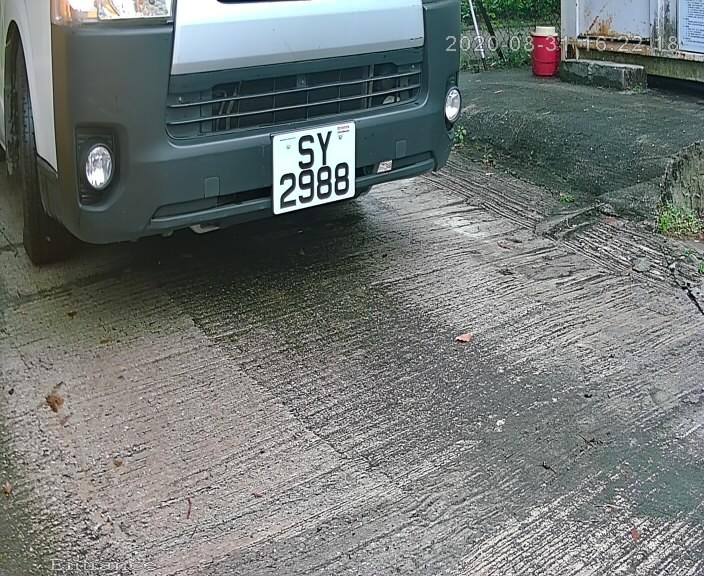License Plate: (268, 119, 371, 219)
